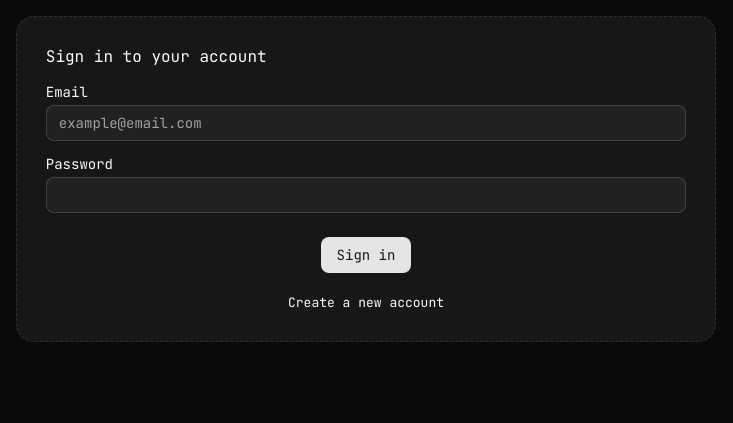
Test: LoginUser Component › displays an error message on failed login
Note: Simulate user input
Type "wrong@example.com" into the field labelled "Email".
click(366, 123); type("wrong@example.com")  # box [46,105,686,141]
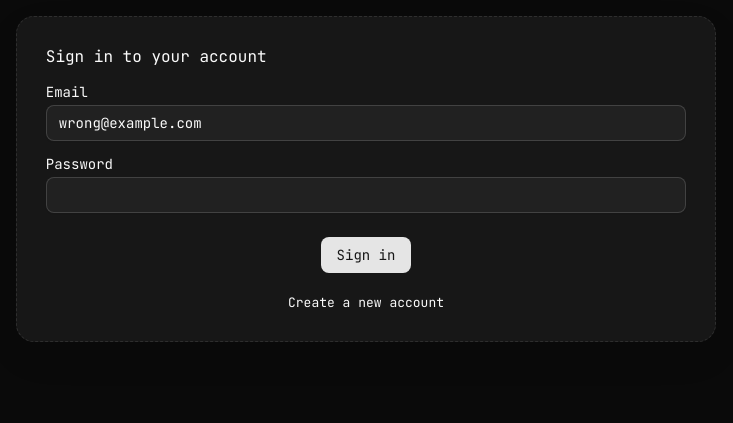
Type "wrongpassword" into the password field labelled "Password".
click(366, 194); type("wrongpassword")  # box [46,176,686,212]
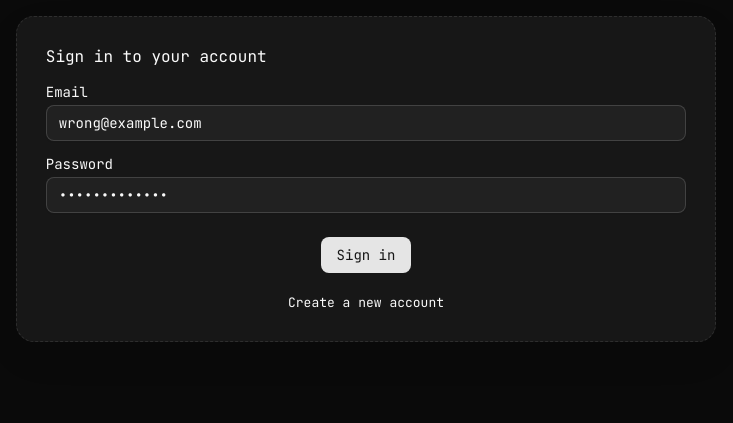
Note: Simulate form submission
Click the button "Sign in".
click(366, 254)  # box [321,236,411,272]
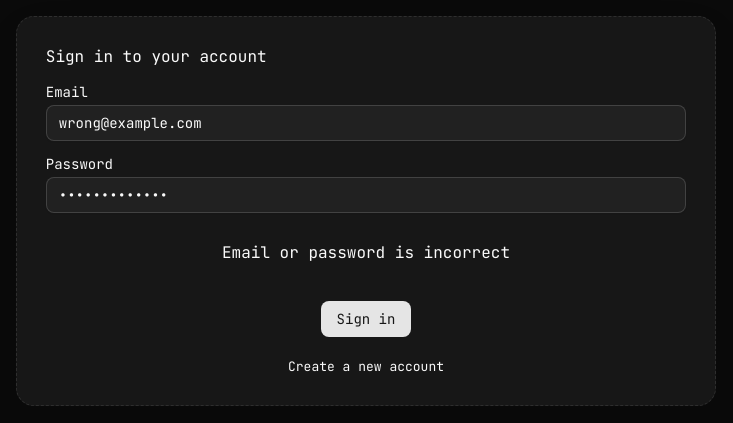
Expected: the text "Email or password is incorrect" is shown, [222,240,510,264]
